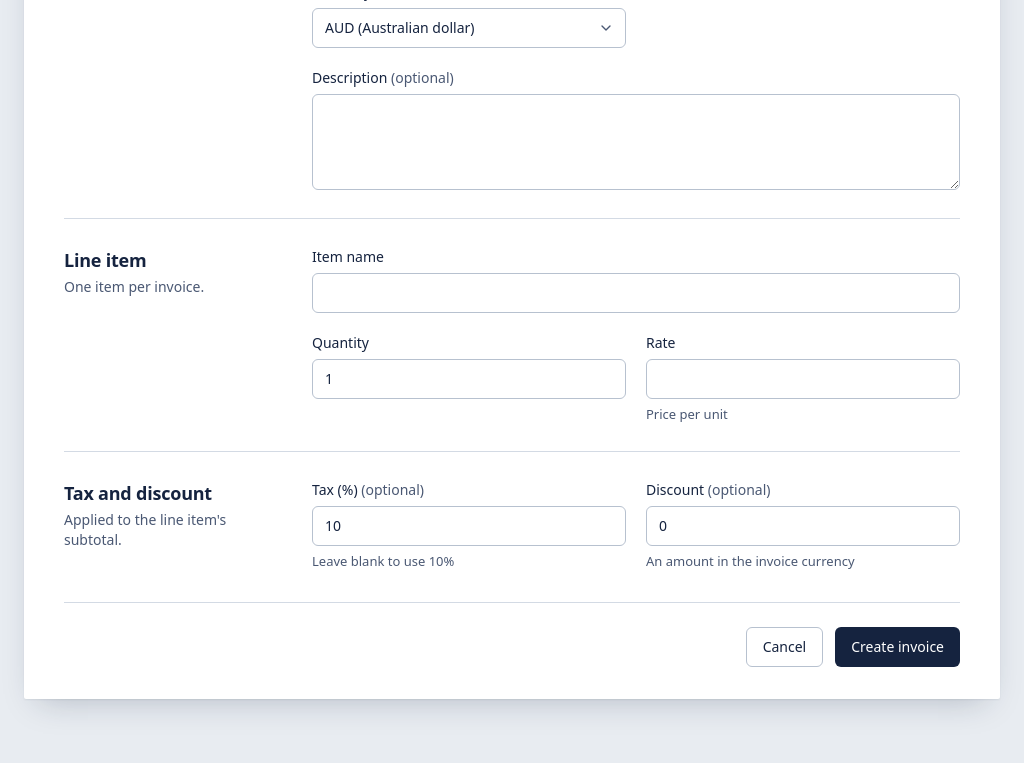
Test: create invoice › checks required fields first and focuses the first problem
(page scrolled)
Step 1. Click the button "Create invoice" → (898, 647), box [835,627,960,667]
(page scrolled)
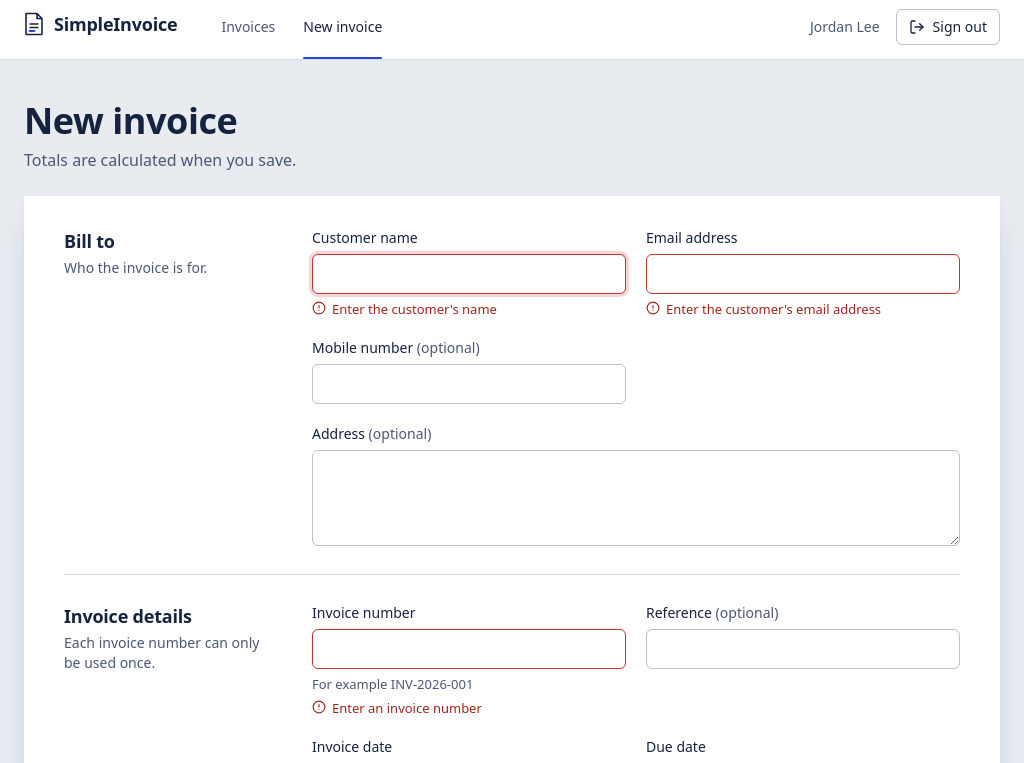
Now the text "Enter the customer's name" is shown, box [312,300,497,318]
Now the text "Enter the customer's email address" is shown, box [646,300,881,318]
Now the text "Enter an invoice number" is shown, box [312,699,482,717]
